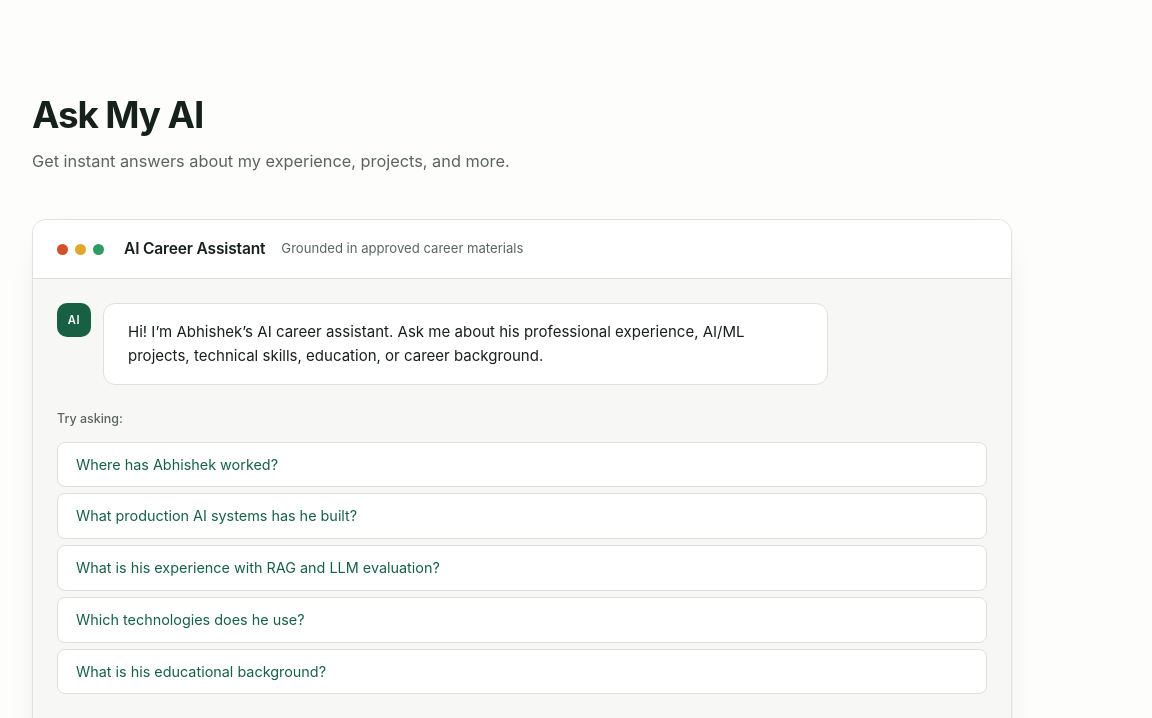
Scenario: AI career assistant › shows a clean answer with no citation markers, sources, or citation controls
Click the button "Where has Abhishek worked?" at (177, 464), box [57,442,987,487]
(page scrolled)
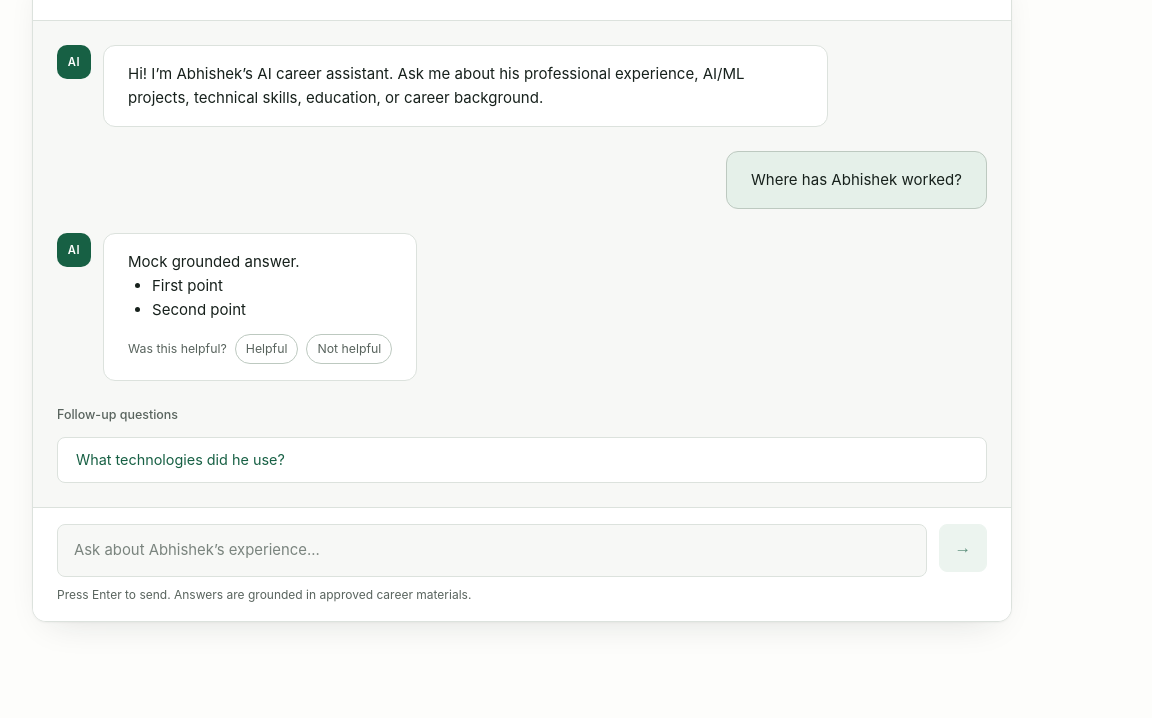
Expected: the text "Mock grounded answer." is shown, [128,252,300,271]
Expected: the text "First point" is shown, [152,276,223,295]
Expected: the text "Second point" is shown, [152,300,246,319]
